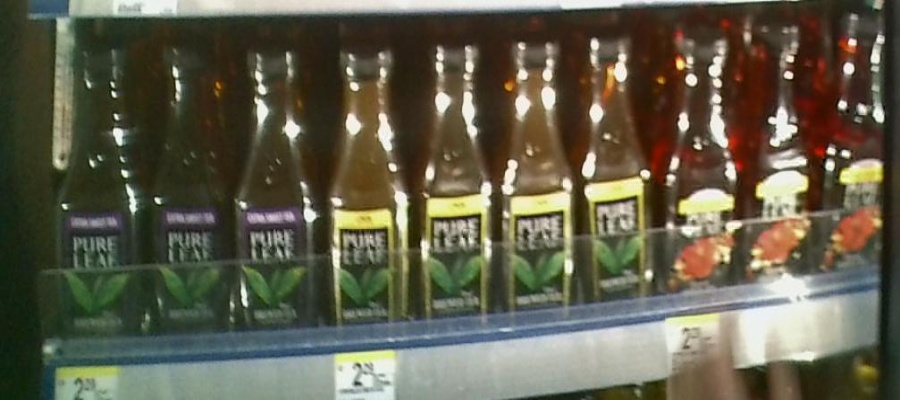bottle: (234, 49, 324, 345), (415, 28, 499, 341), (56, 42, 143, 342), (326, 46, 411, 344), (148, 42, 231, 341), (501, 28, 579, 332), (660, 33, 740, 319), (583, 35, 656, 332), (818, 7, 890, 294), (746, 19, 815, 293)
